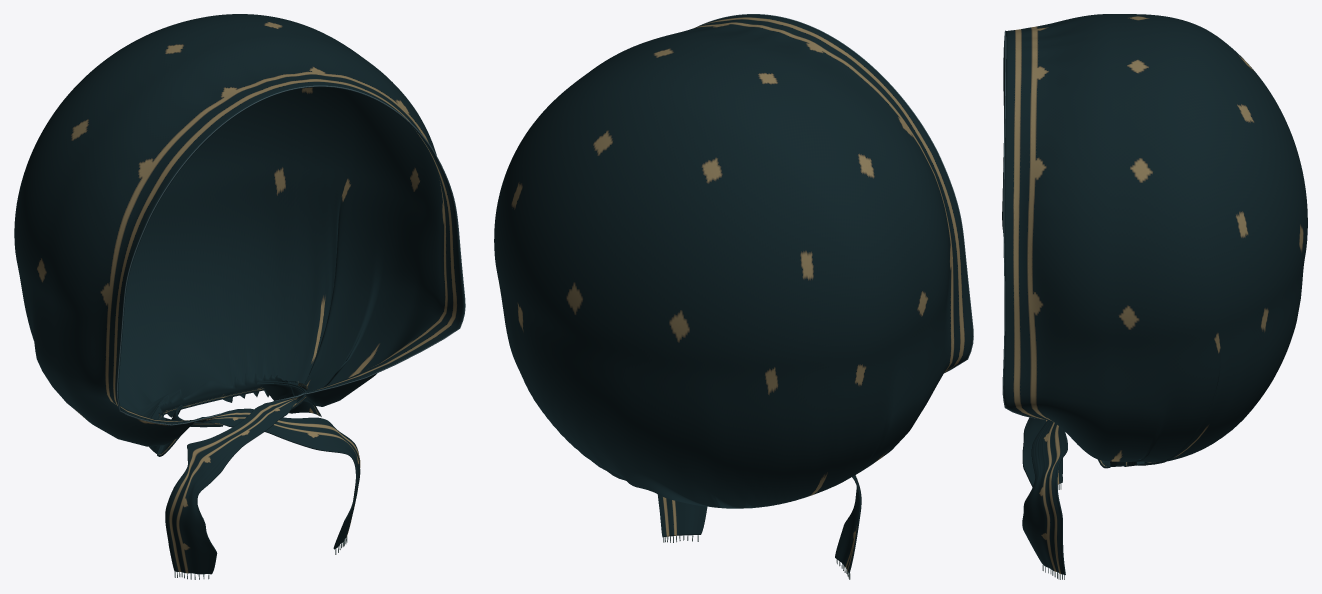
Rendered from Feminine-space-buns-strappy-pashmina250-headgear.glb.
The picture shows the model from 3 angles, left to right: view 1: azimuth 30°, elevation 25°; view 2: azimuth 150°, elevation 25°; view 3: azimuth 270°, elevation 25°; orthographic projection. The views are drawn at different scales.
Visible parts, largest first — view 1: 226 headgear / Headwear / continuous woven pashmina239, 226 headgear / Headwear / face edge239; view 2: 226 headgear / Headwear / continuous woven pashmina239, 226 headgear / Headwear / face edge239; view 3: 226 headgear / Headwear / continuous woven pashmina239, 226 headgear / Headwear / face edge239.
Boxes of the visible parts, x1,y1,x2,y2 form: 226 headgear / Headwear / continuous woven pashmina239: (14, 14, 464, 574); 226 headgear / Headwear / face edge239: (117, 85, 465, 425); 226 headgear / Headwear / continuous woven pashmina239: (494, 14, 972, 573); 226 headgear / Headwear / face edge239: (695, 14, 973, 372); 226 headgear / Headwear / continuous woven pashmina239: (1002, 14, 1307, 574); 226 headgear / Headwear / face edge239: (1002, 30, 1043, 419).
Bounding box in the file's own units: 1.07 × 1.38 × 0.7556.
Materials: 3 (1 with a texture image).
